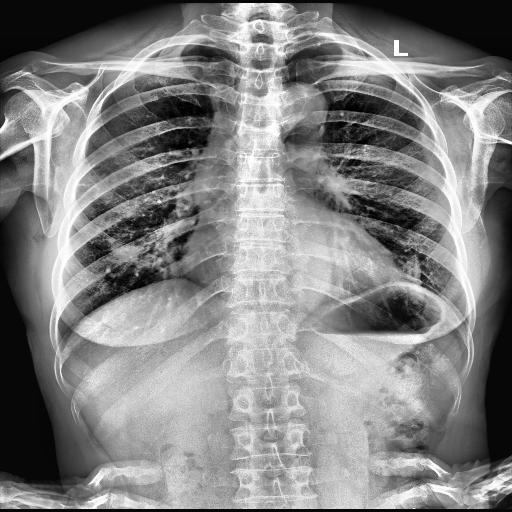0- Aortic enlargement: (260, 84, 326, 140), (270, 82, 326, 146), (270, 84, 328, 140)
3- Cardiomegaly: (176, 244, 409, 308)
7- Lung Opacity: (106, 232, 164, 272)
9- Other lesion: (106, 232, 164, 272)
